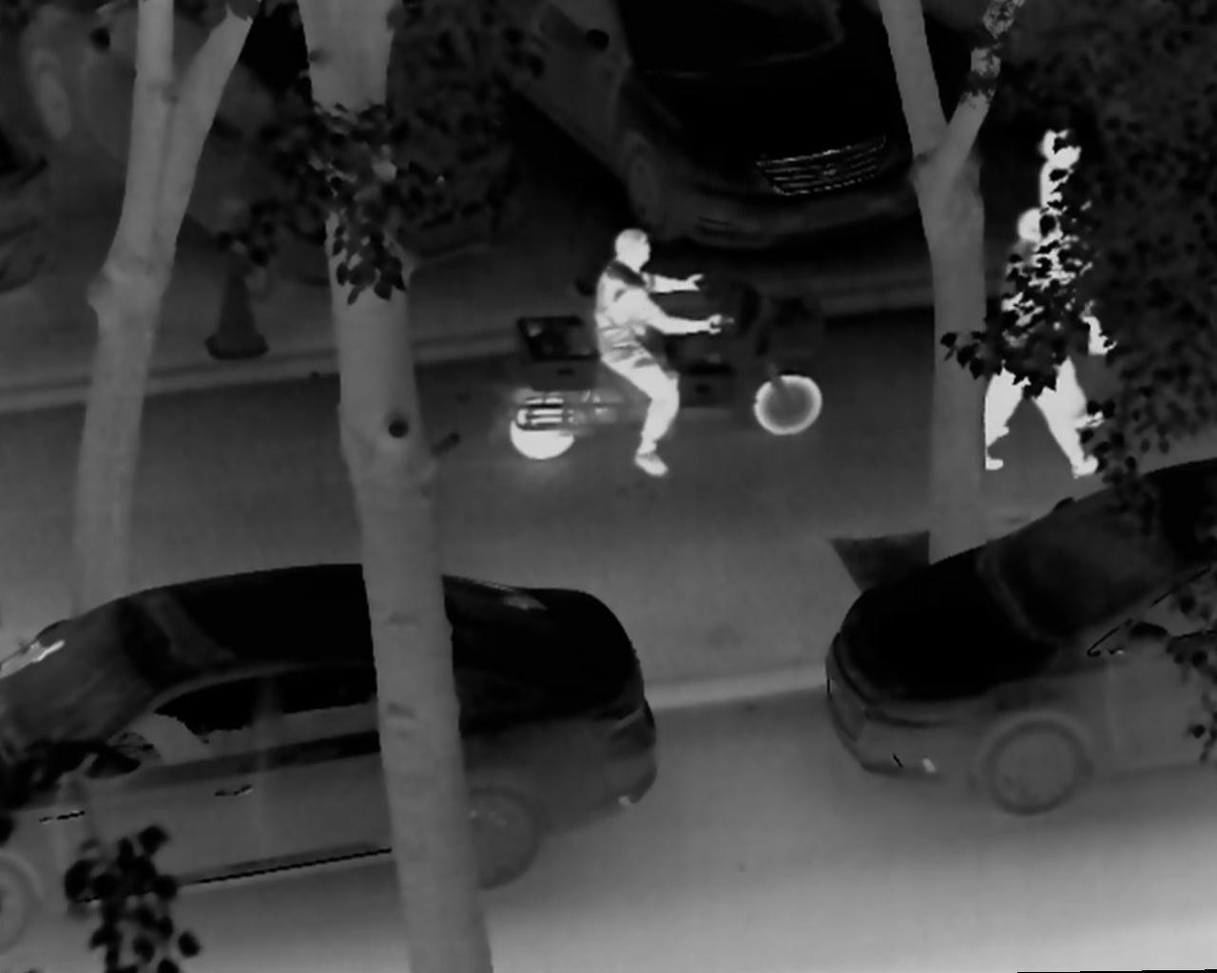person: (593, 225, 725, 475), (989, 257, 1102, 488), (1006, 210, 1111, 437), (1033, 111, 1120, 361)
